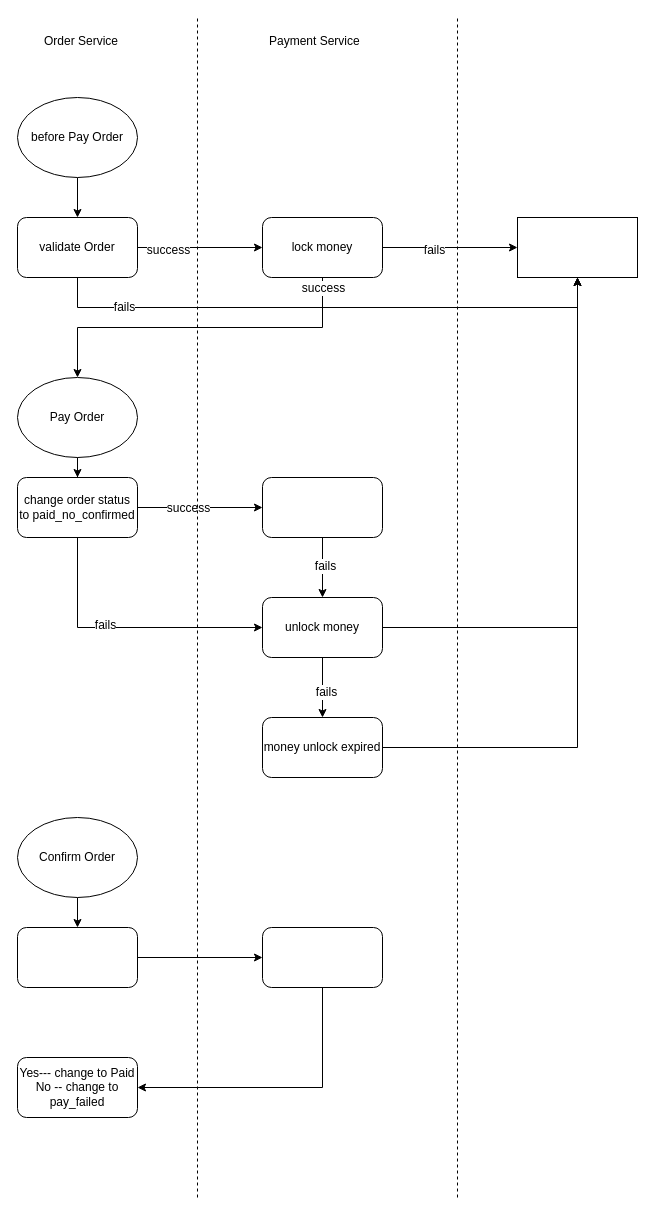
The diagram is 655 pixels wide and 1216 high, and some of its shapes have lost their labels. Here are the shapes that lost their labels. From the top down, the box of each, then its label:
(516, 216, 638, 278): Exit
(262, 476, 382, 538): pay money
(16, 926, 138, 988): get paid_no_commit event
(262, 926, 382, 988): confirm order paid
